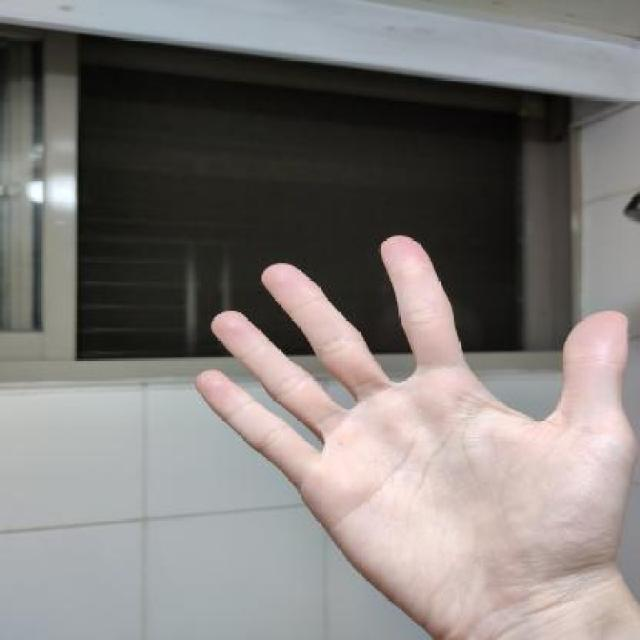bare_hand: (182, 216, 638, 638)
